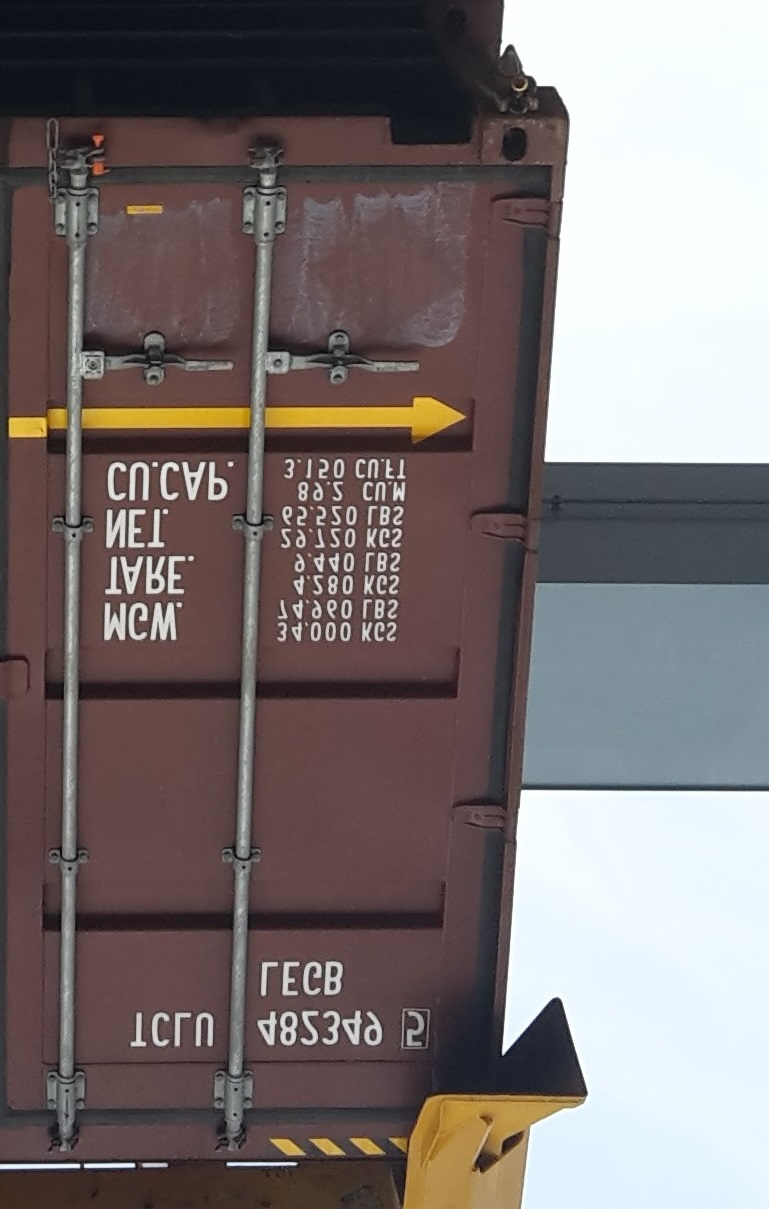container_door: (13, 93, 567, 1168)
